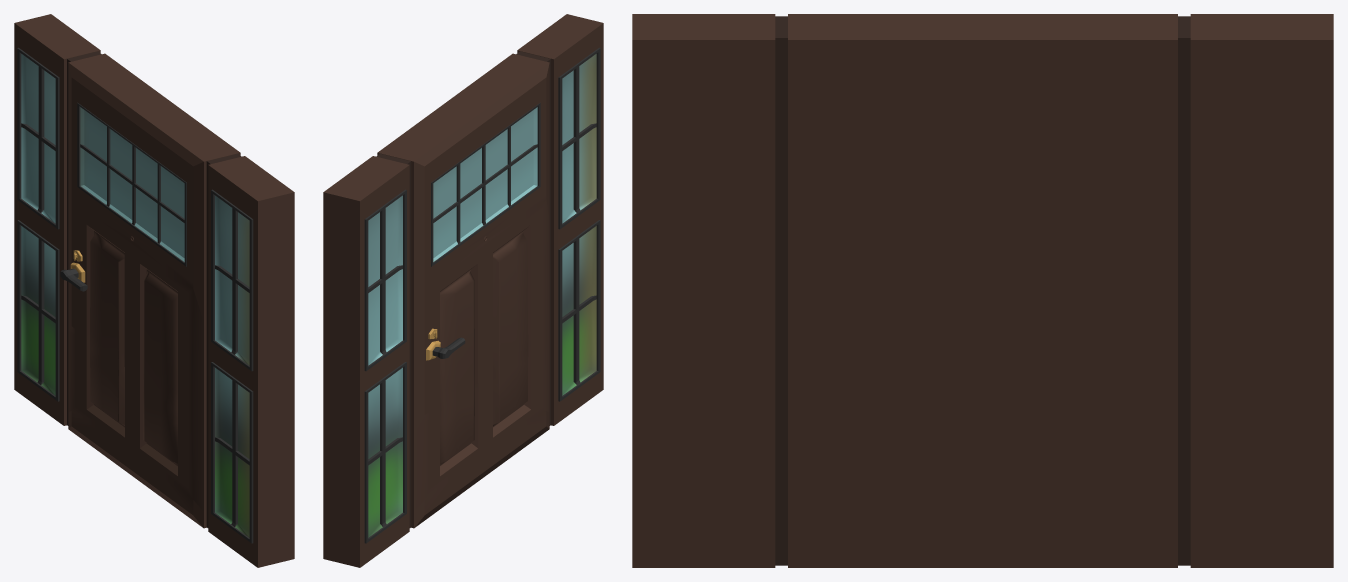
Rendered from FrontDoor.fbx.
3 views of the same model, side by side, from view 1: azimuth 30°, elevation 25°; view 2: azimuth 150°, elevation 25°; view 3: azimuth 270°, elevation 25° (orthographic). The views are drawn at different scales.
Parts seen in each view (by area): view 1: pCube1; view 2: pCube1; view 3: pCube1.
Boxes of the visible parts, x1,y1,x2,y2 form: pCube1: [14, 14, 294, 567]; pCube1: [323, 14, 603, 567]; pCube1: [632, 14, 1333, 567].
Size of the model in its own units: 1.53 by 9.53 by 11.47.
